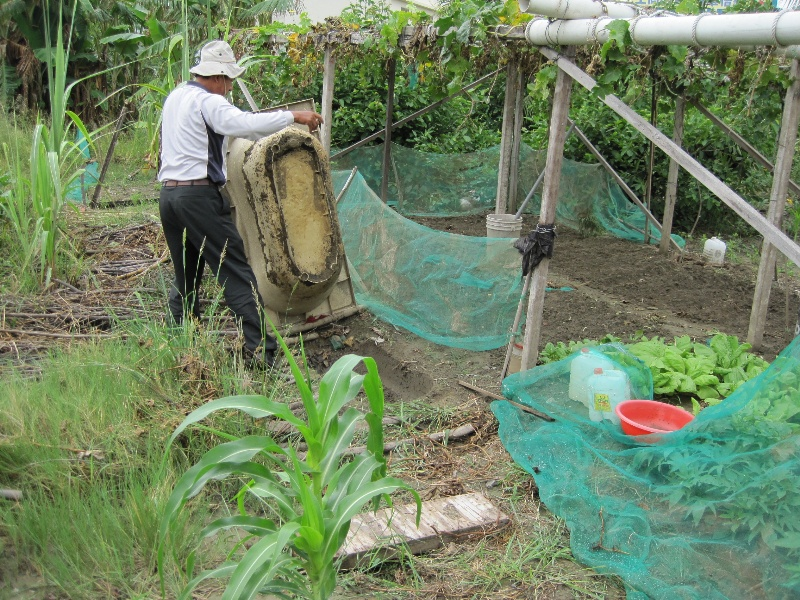bottle: (585, 368, 627, 422), (702, 235, 727, 269)
bowl: (615, 398, 693, 442)
bucket: (486, 213, 522, 257)
tub: (226, 97, 362, 346)
